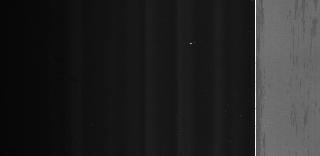water spot: (286, 2, 318, 128), (257, 2, 267, 154)
